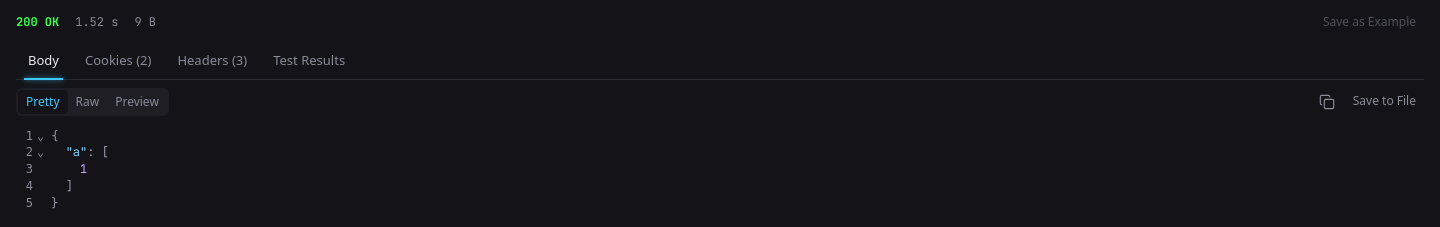
Test: ResponseViewer › pretty prints by default and shows the raw body as received
Expected: the radio button labelled "Pretty" is checked, top-left (18, 90), bottom-right (68, 114)
Expected: the field named "Pretty response body" shows "\"a\": [", top-left (51, 128), bottom-right (109, 211)
What coordinates should you click on to do the following:
click the radio button labelled "Raw"
I would click on:
 (87, 101)
Its box is top-left (76, 92), bottom-right (99, 110).
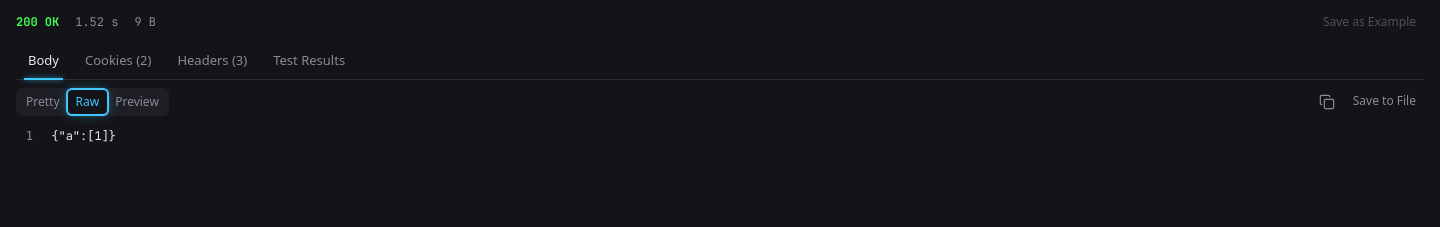
Result: the field named "Raw response body" reads "{\"a\":[1]}" at top-left (51, 128), bottom-right (116, 144)
